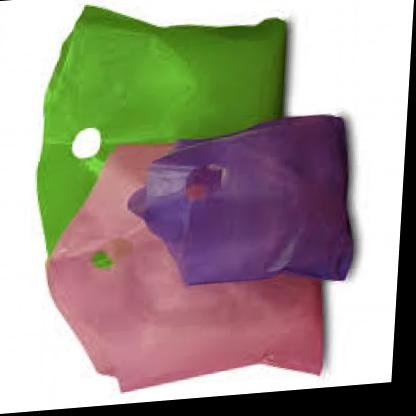trash: (37, 6, 351, 390)
